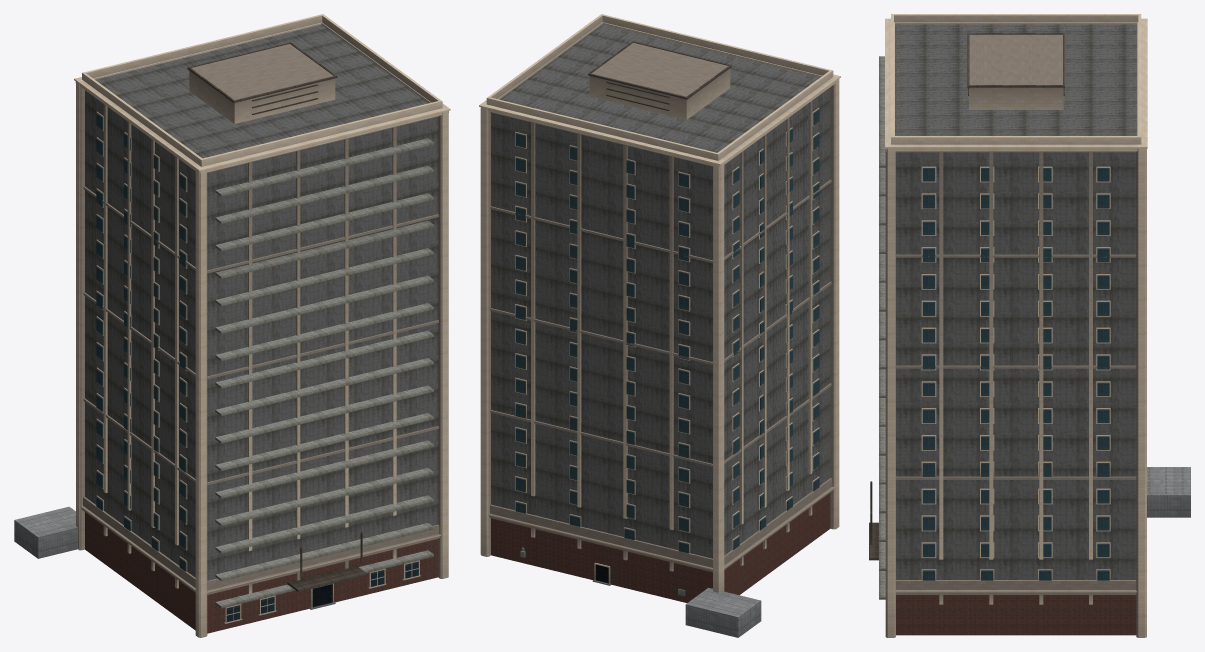
The model's file is apartment-tower_lod0.gltf.
3 views of the same model, side by side, from view 1: azimuth 30°, elevation 25°; view 2: azimuth 150°, elevation 25°; view 3: azimuth 270°, elevation 25° (orthographic). The views are drawn at different scales.
Visible parts, largest first — view 1: apartment-tower_upper, apartment-tower__v4_stone_detail, apartment-tower__balconies, apartment-tower_base, apartment-tower_fen_07-glass-curtain-blue_1, apartment-tower_fen_04-limestone_0, apartment-tower__playground, apartment-tower__v4_metal_detail; view 2: apartment-tower_upper, apartment-tower__v4_stone_detail, apartment-tower_fen_07-glass-curtain-blue_1, apartment-tower_base, apartment-tower_fen_04-limestone_0, apartment-tower__playground, apartment-tower__v4_metal_detail; view 3: apartment-tower_upper, apartment-tower__v4_stone_detail, apartment-tower_fen_07-glass-curtain-blue_1, apartment-tower_base, apartment-tower_fen_04-limestone_0, apartment-tower__balconies, apartment-tower__playground, apartment-tower__v4_metal_detail.
Part boxes in pixels (bbox=[...]): apartment-tower_upper: bbox=[85, 24, 438, 580]; apartment-tower__v4_stone_detail: bbox=[74, 14, 450, 637]; apartment-tower__balconies: bbox=[215, 138, 433, 608]; apartment-tower_base: bbox=[85, 512, 438, 633]; apartment-tower_fen_07-glass-curtain-blue_1: bbox=[96, 113, 418, 621]; apartment-tower_fen_04-limestone_0: bbox=[96, 111, 420, 623]; apartment-tower__playground: bbox=[14, 506, 77, 558]; apartment-tower__v4_metal_detail: bbox=[187, 42, 366, 591]; apartment-tower_upper: bbox=[491, 24, 830, 558]; apartment-tower__v4_stone_detail: bbox=[479, 14, 840, 592]; apartment-tower_fen_07-glass-curtain-blue_1: bbox=[515, 109, 819, 553]; apartment-tower_base: bbox=[491, 493, 830, 602]; apartment-tower_fen_04-limestone_0: bbox=[515, 108, 819, 583]; apartment-tower__playground: bbox=[685, 587, 761, 637]; apartment-tower__v4_metal_detail: bbox=[588, 41, 731, 110]; apartment-tower_upper: bbox=[895, 24, 1137, 579]; apartment-tower__v4_stone_detail: bbox=[885, 14, 1147, 637]; apartment-tower_fen_07-glass-curtain-blue_1: bbox=[922, 168, 1109, 580]; apartment-tower_base: bbox=[896, 595, 1136, 635]; apartment-tower_fen_04-limestone_0: bbox=[921, 166, 1110, 580]; apartment-tower__balconies: bbox=[879, 56, 885, 599]; apartment-tower__playground: bbox=[1147, 467, 1190, 517]; apartment-tower__v4_metal_detail: bbox=[869, 33, 1064, 560].
Bounding box in the file's own units: 42.3 × 68.32 × 38.7.
